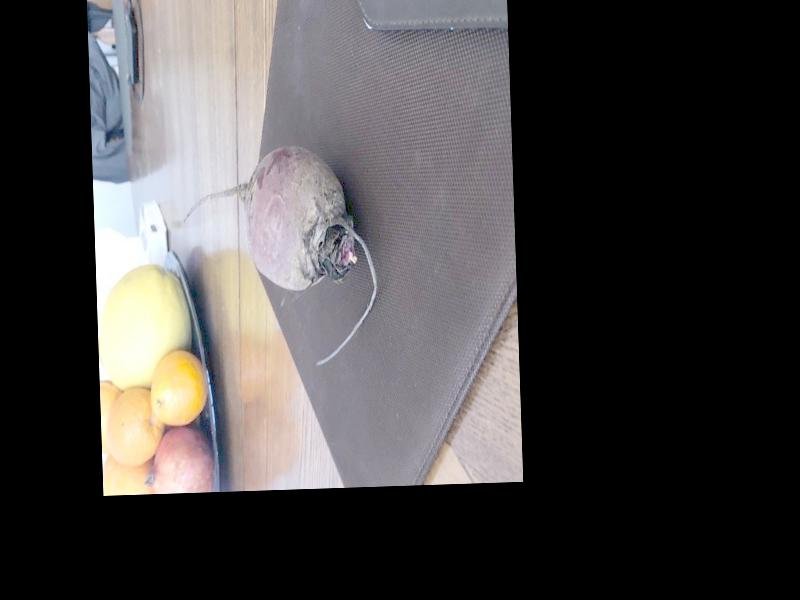Beet: (180, 143, 379, 370)
